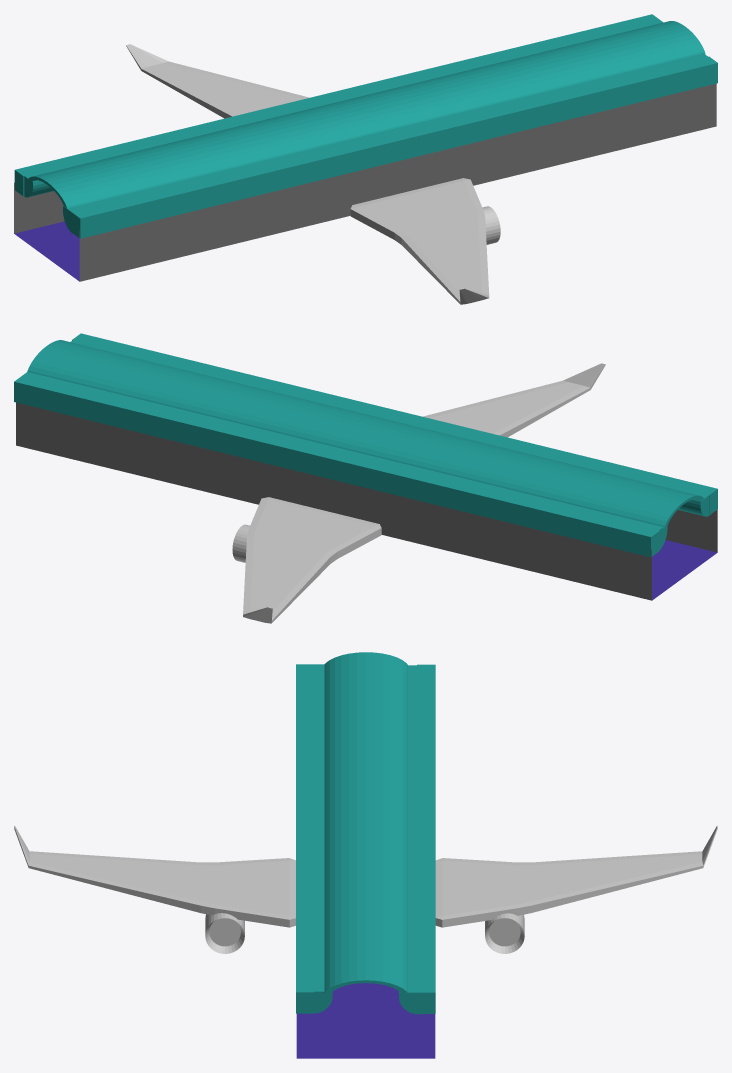
3 renders of one model, top to bottom at view 1: azimuth 30°, elevation 25°; view 2: azimuth 150°, elevation 25°; view 3: azimuth 270°, elevation 25°, orthographic. The views are drawn at different scales.
Visible parts, largest first — view 1: Wall_4_Plane.005, Roof_Cylinder.003, Wall_Plane.001, Roof_2_Cylinder.005, Cabin_Luggage_Cylinder.001, Cabin_Luggage_4_Cylinder.007, Wing_Right_Cube.010, Wing_Left_Cube.009, Cabin_Luggage_2_Cylinder.002, Cabin_Luggage_3_Cylinder.006, Floor_Plane, Wall_2_Plane.003 (+1 smaller); view 2: Wall_2_Plane.003, Roof_Cylinder.003, Roof_2_Cylinder.005, Wall_3_Plane.004, Cabin_Luggage_2_Cylinder.002, Cabin_Luggage_3_Cylinder.006, Wing_Left_Cube.009, Wing_Right_Cube.010, Cabin_Luggage_Cylinder.001, Cabin_Luggage_4_Cylinder.007, Floor_Plane, Wall_Plane.001 (+1 smaller); view 3: Roof_Cylinder.003, Roof_2_Cylinder.005, Wing_Left_Cube.009, Wing_Right_Cube.010, Roof_2.001_Plane.006, Cabin_Luggage_4_Cylinder.007, Cabin_Luggage_3_Cylinder.006, Cabin_Luggage_2_Cylinder.002, Cabin_Luggage_Cylinder.001, Right_Engine_Cylinder.009, Left_Engine_Cylinder.008.
Part boxes in pixels (left/top/right/bottom): Wall_4_Plane.005: left=391, top=83, right=716, bottom=195; Roof_Cylinder.003: left=27, top=96, right=392, bottom=208; Wall_Plane.001: left=79, top=163, right=390, bottom=281; Roof_2_Cylinder.005: left=347, top=21, right=705, bottom=132; Cabin_Luggage_Cylinder.001: left=63, top=132, right=406, bottom=238; Cabin_Luggage_4_Cylinder.007: left=378, top=53, right=717, bottom=162; Wing_Right_Cube.010: left=350, top=178, right=489, bottom=304; Wing_Left_Cube.009: left=126, top=44, right=309, bottom=118; Cabin_Luggage_2_Cylinder.002: left=14, top=90, right=351, bottom=197; Cabin_Luggage_3_Cylinder.006: left=341, top=14, right=663, bottom=98; Floor_Plane: left=14, top=221, right=79, bottom=281; Wall_2_Plane.003: left=14, top=182, right=64, bottom=233; Wall_2_Plane.003: left=327, top=478, right=651, bottom=600; Roof_Cylinder.003: left=338, top=416, right=703, bottom=528; Roof_2_Cylinder.005: left=27, top=340, right=377, bottom=451; Wall_3_Plane.004: left=16, top=402, right=326, bottom=510; Cabin_Luggage_2_Cylinder.002: left=325, top=448, right=667, bottom=557; Cabin_Luggage_3_Cylinder.006: left=14, top=372, right=337, bottom=477; Wing_Left_Cube.009: left=243, top=497, right=381, bottom=623; Wing_Right_Cube.010: left=423, top=363, right=605, bottom=437; Cabin_Luggage_Cylinder.001: left=388, top=409, right=717, bottom=516; Cabin_Luggage_4_Cylinder.007: left=70, top=333, right=402, bottom=421; Floor_Plane: left=652, top=540, right=717, bottom=600; Wall_Plane.001: left=665, top=509, right=717, bottom=552; Roof_Cylinder.003: left=324, top=652, right=407, bottom=829; Roof_2_Cylinder.005: left=323, top=818, right=408, bottom=993; Wing_Left_Cube.009: left=435, top=825, right=717, bottom=927; Wing_Right_Cube.010: left=14, top=825, right=295, bottom=927; Roof_2.001_Plane.006: left=296, top=983, right=435, bottom=1058; Cabin_Luggage_4_Cylinder.007: left=296, top=824, right=332, bottom=1013; Cabin_Luggage_3_Cylinder.006: left=399, top=832, right=435, bottom=1014; Cabin_Luggage_2_Cylinder.002: left=407, top=664, right=435, bottom=832; Cabin_Luggage_Cylinder.001: left=296, top=664, right=324, bottom=831; Right_Engine_Cylinder.009: left=205, top=913, right=244, bottom=953; Left_Engine_Cylinder.008: left=485, top=913, right=524, bottom=953.
Bounding box in the file's own units: 39.24 × 6.01 × 35.54.
